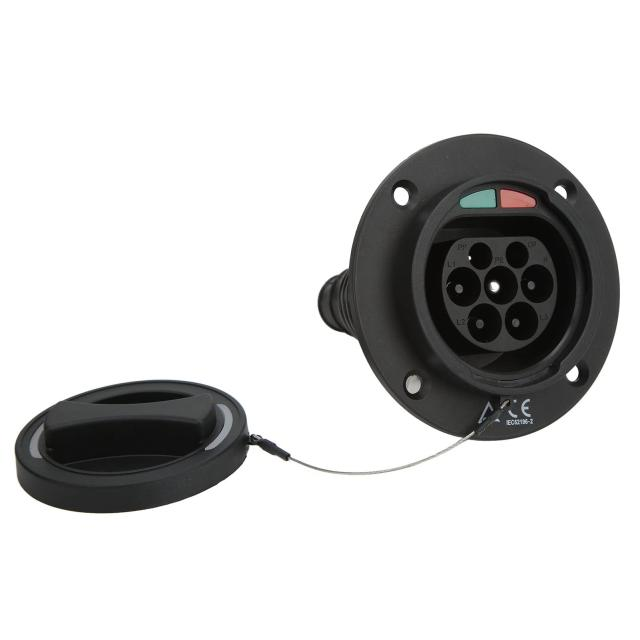inlet: (442, 236, 557, 352)
inlet-above-left: (468, 242, 493, 270)
inlet-above-right: (506, 242, 529, 269)
inlet-below-left: (468, 303, 502, 343)
inlet-below-right: (504, 301, 539, 341)
inlet-circle: (484, 265, 518, 305)
inlet-circle-left: (446, 266, 481, 307)
inlet-circle-right: (521, 264, 554, 303)
